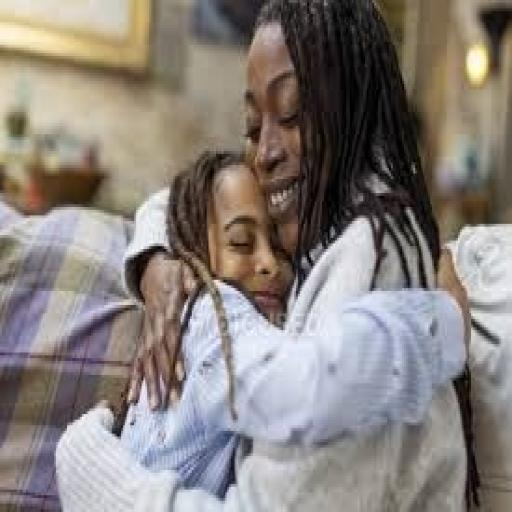hugging: (54, 0, 473, 509)
